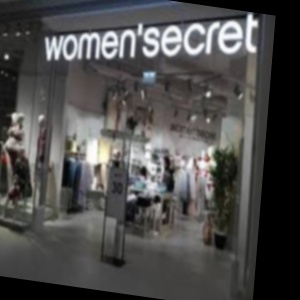women_secret: (15, 19, 272, 59)
